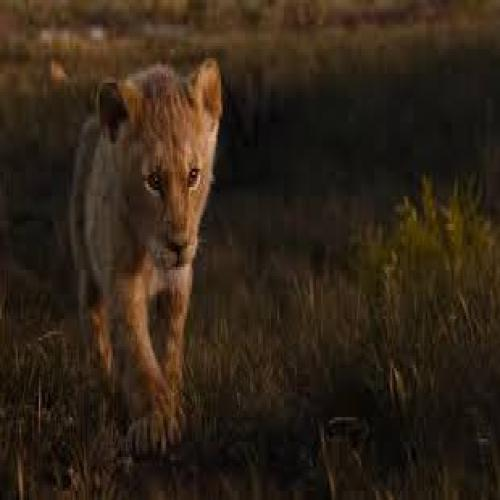lion-endangered: (69, 63, 222, 418)
